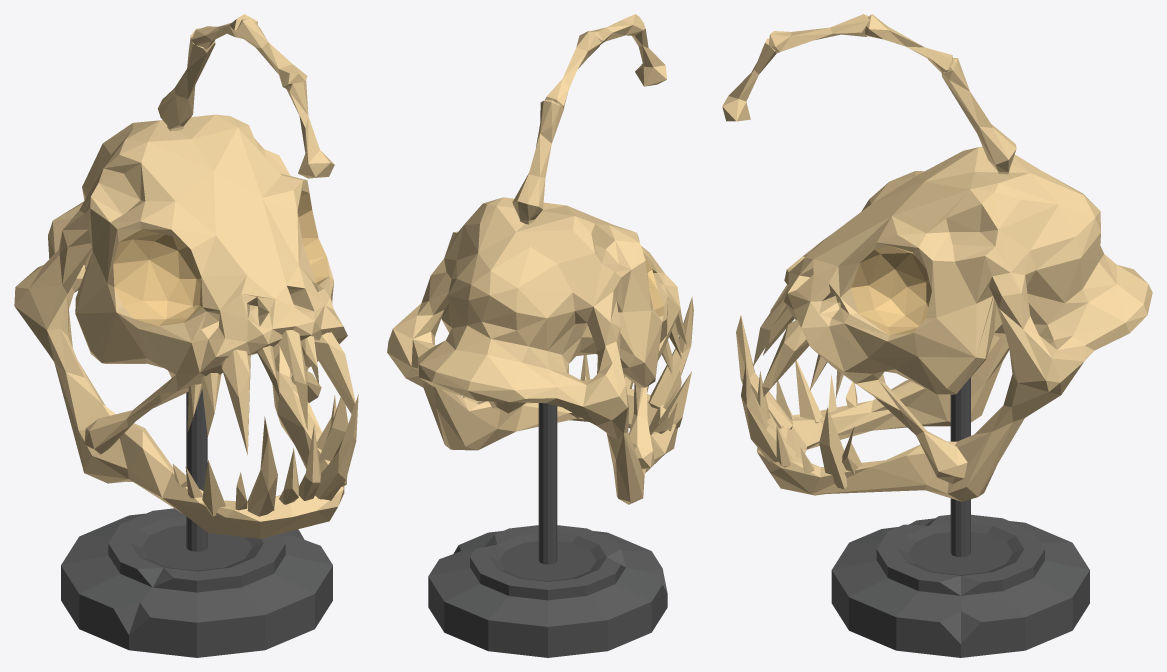
File: Fish_Head_Stand_001.001.fbx
The picture shows the model from 3 angles, left to right: view 1: azimuth 30°, elevation 25°; view 2: azimuth 150°, elevation 25°; view 3: azimuth 270°, elevation 25°; orthographic projection. The views are drawn at different scales.
Parts seen in each view (by area): view 1: Fish_Head_Stand_001.001; view 2: Fish_Head_Stand_001.001; view 3: Fish_Head_Stand_001.001.
Boxes of the visible parts, box(x1,y1,x2,y2) form: Fish_Head_Stand_001.001: box(14, 14, 358, 657); Fish_Head_Stand_001.001: box(387, 14, 693, 657); Fish_Head_Stand_001.001: box(722, 14, 1152, 657).
Size of the model in its own units: 0.4489 by 0.9748 by 0.6455.
